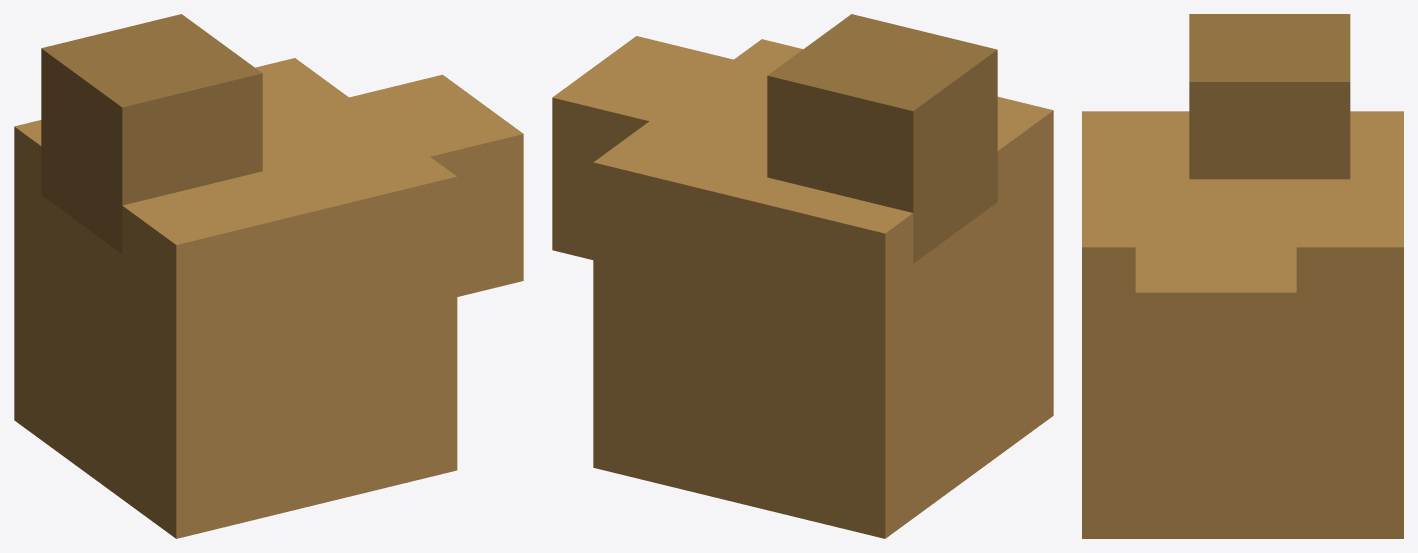
File: regadera_cobre_01.glb
3 renders of one model, left to right at view 1: azimuth 30°, elevation 25°; view 2: azimuth 150°, elevation 25°; view 3: azimuth 270°, elevation 25°, orthographic. The views are drawn at different scales.
Visible parts, largest first — view 1: regadera_cobre; view 2: regadera_cobre; view 3: regadera_cobre.
Part boxes in pixels (x1,y1,x2,y2): regadera_cobre: [14, 14, 523, 538]; regadera_cobre: [552, 14, 1053, 538]; regadera_cobre: [1082, 14, 1403, 538].
Bounding box in the file's own units: 0.5714 × 0.5714 × 0.4286.
